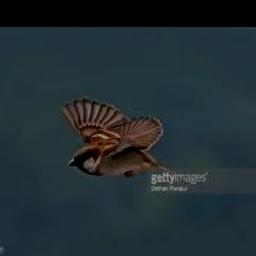Sparrow: (60, 96, 175, 179)
